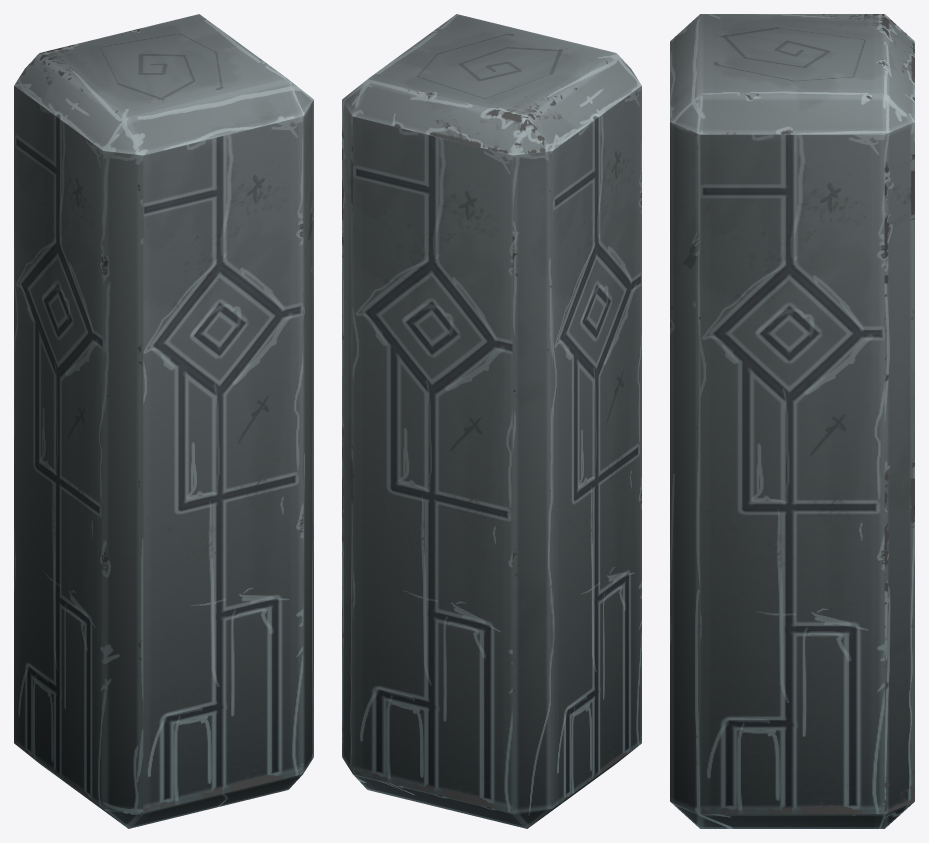
File: puzzle_rectangle_diamond.FBX
3 renders of one model, left to right at view 1: azimuth 30°, elevation 25°; view 2: azimuth 150°, elevation 25°; view 3: azimuth 270°, elevation 25°, orthographic. The views are drawn at different scales.
Visible parts, largest first — view 1: puzzle_rectangle_diamond; view 2: puzzle_rectangle_diamond; view 3: puzzle_rectangle_diamond.
Boxes of the visible parts, x1,y1,x2,y2 form: puzzle_rectangle_diamond: [14, 14, 313, 828]; puzzle_rectangle_diamond: [342, 14, 641, 828]; puzzle_rectangle_diamond: [670, 14, 914, 828].
Size of the model in its own units: 23.32 by 75.21 by 22.72.
Materials: 1 (1 with a texture image).
